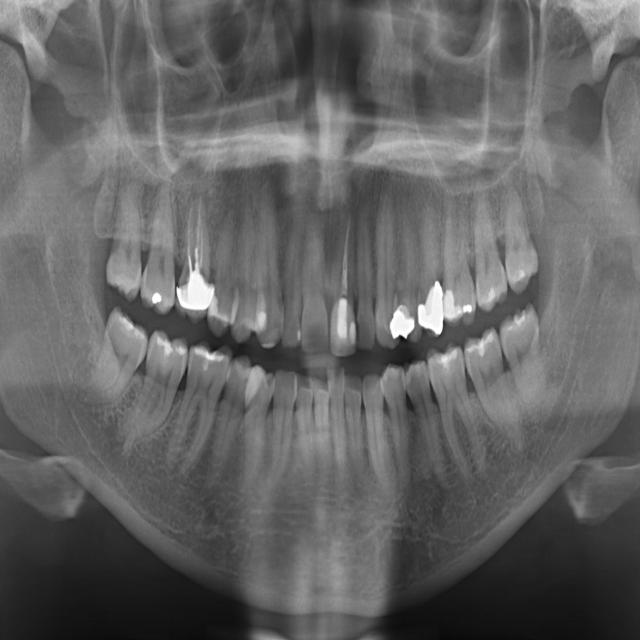AmalgamRestoration: (390, 309, 413, 338), (464, 300, 476, 318), (154, 292, 163, 311)
CompositeResinRestoration: (417, 282, 444, 334), (153, 334, 188, 363), (467, 328, 496, 362), (194, 344, 224, 376), (444, 291, 467, 322), (435, 344, 459, 372), (336, 301, 350, 344), (119, 312, 138, 342), (486, 284, 498, 307), (256, 304, 266, 330), (349, 320, 356, 345), (297, 328, 302, 344)
Crown: (178, 284, 210, 317), (176, 280, 189, 302), (200, 277, 208, 299)
DentalCaries: (465, 278, 474, 298), (356, 318, 362, 346)
Overhang: (210, 276, 215, 300)
RootCanalTreatment: (335, 208, 359, 300)
post: (186, 247, 206, 275)
